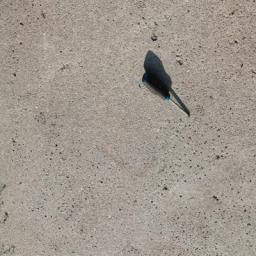FOD: (142, 52, 193, 124)
